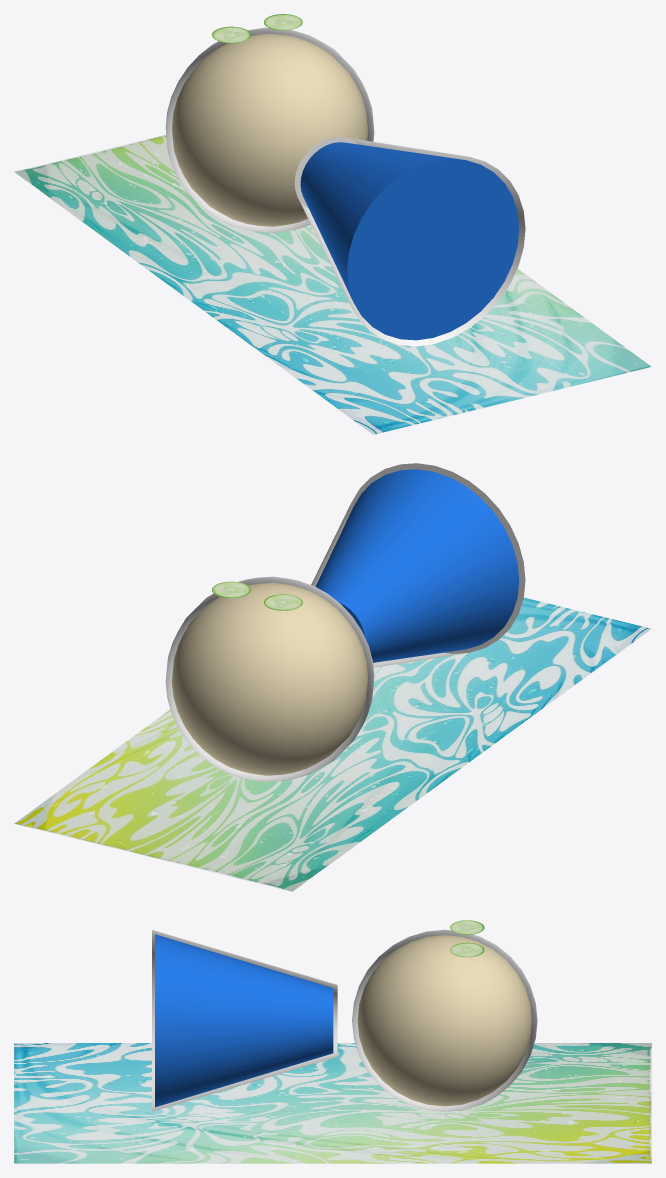
Rendered from character-blue-chilling.glb.
3 renders of one model, top to bottom at view 1: azimuth 30°, elevation 25°; view 2: azimuth 150°, elevation 25°; view 3: azimuth 270°, elevation 25°, orthographic. The views are drawn at different scales.
Visible parts, largest first — view 1: Sphere.001, Plane, Circle.001; view 2: Sphere.001, Plane, Circle.001; view 3: Plane, Sphere.001, Circle.001.
Boxes of the visible parts, x1,y1,x2,y2 form: Sphere.001: (165,27,525,346); Plane: (14,135,651,434); Circle.001: (212,14,302,43); Sphere.001: (165,463,525,781); Plane: (14,597,651,891); Circle.001: (212,581,302,610); Plane: (14,1043,651,1163); Sphere.001: (152,929,537,1111); Circle.001: (450,920,484,957).
Size of the model in its own units: 3.08 by 1.96 by 6.87.
5 materials, 2 textured.
